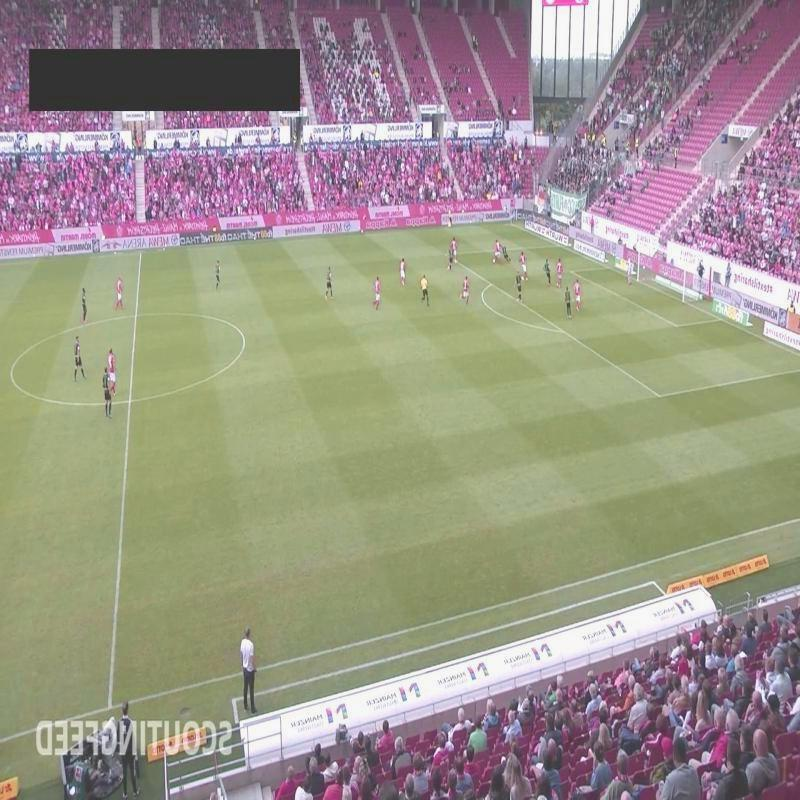1: (505, 216, 519, 230)
10: (484, 276, 498, 290)
11: (554, 322, 568, 336)
12: (652, 389, 666, 403)
13: (133, 246, 147, 260)
14: (129, 310, 143, 324)
15: (123, 394, 138, 408)
16: (100, 698, 117, 718)
2: (552, 239, 566, 253)
3: (601, 260, 615, 274)
4: (714, 312, 728, 326)
7: (564, 264, 578, 278)
8: (668, 318, 682, 332)
9: (438, 247, 453, 261)
c: (236, 332, 252, 347), (5, 366, 19, 380)
